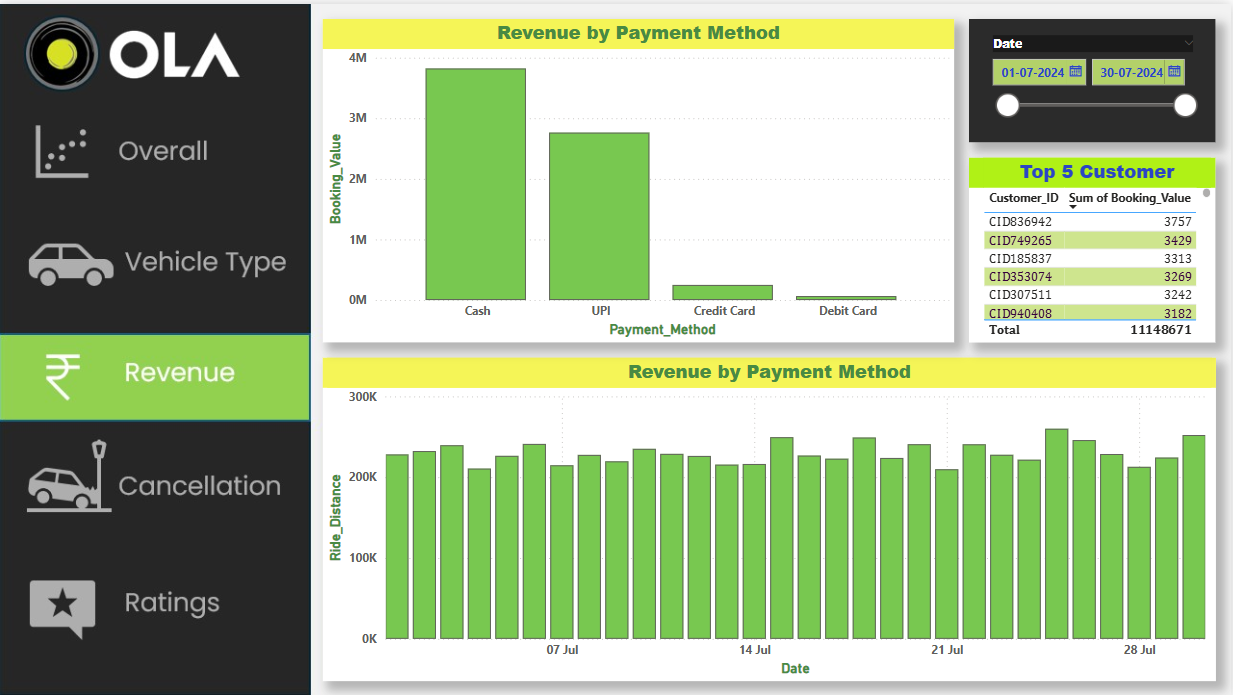

This screenshot's page, from the dashboard's own definition file:
{"tool":"powerbi","page":{"name":"Revenue","canvas":[1280,720],"ordinal":2},"visuals":[{"type":"actionButton","box":[0,112,320,96],"z":0},{"type":"actionButton","box":[0,224,320,96],"z":1000},{"type":"actionButton","box":[0,448,320,96],"z":2000},{"type":"actionButton","box":[0,576,320,96],"z":3000},{"type":"columnChart","title":"Revenue by Payment Method","fields":{"Y":["Sum(July.Booking_Value)"],"Category":["July.Date"]},"box":[336,368,928,336],"z":3001},{"type":"columnChart","title":"Revenue by Payment Method","fields":{"Y":["Sum(July.Booking_Value)"],"Category":["July.Payment_Method"]},"box":[336,16,656,336],"z":3002},{"type":"slicer","fields":{"Values":["July.Date"]},"box":[1008,16,256,128],"z":3003},{"type":"tableEx","title":"Top 5 Customer","fields":{"Values":["July.Customer_ID","Sum(July.Booking_Value)"]},"box":[1008,160,256,192],"z":3004}]}

Visuals, with their boxes in screenshot pixels (x1, y1, x2, y2), scaled from the page's 1280x720 canvas onto the 1233x695 screenshot:
actionButton: <box>0,108,308,201</box>
actionButton: <box>0,216,308,309</box>
actionButton: <box>0,432,308,525</box>
actionButton: <box>0,556,308,649</box>
"Revenue by Payment Method" columnChart: <box>324,355,1218,680</box>
"Revenue by Payment Method" columnChart: <box>324,15,956,340</box>
slicer - July.Date: <box>971,15,1218,139</box>
"Top 5 Customer" tableEx: <box>971,154,1218,340</box>
